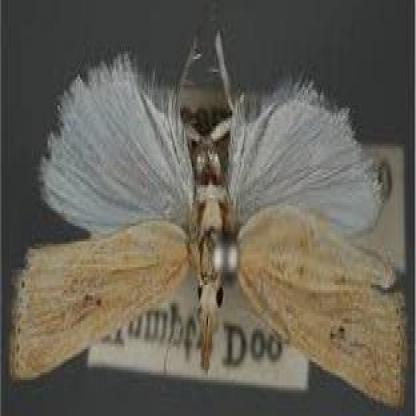stem-borer: (8, 19, 409, 412)
